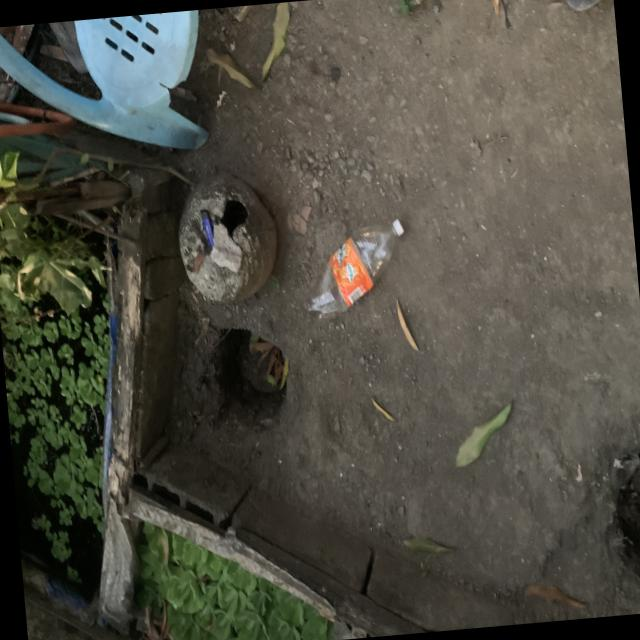Bottle: (307, 219, 403, 318)
